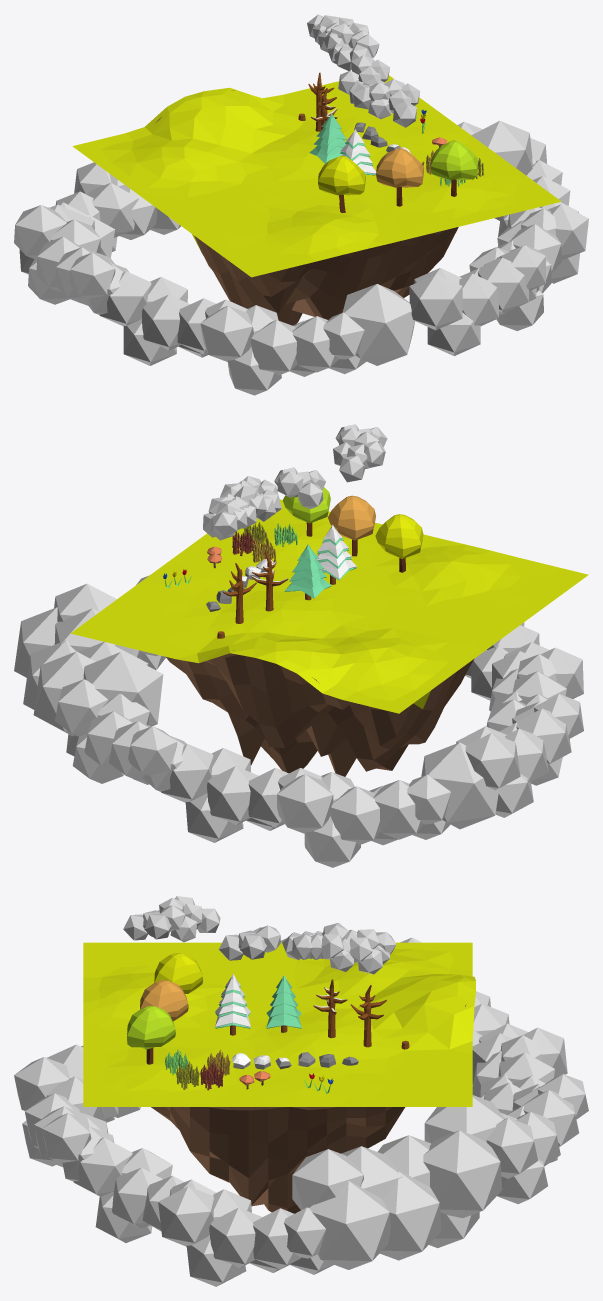
The model's file is low_poly_nature_pack by KASADIN on Turbosquid.fbx.
3 renders of one model, top to bottom at view 1: azimuth 30°, elevation 25°; view 2: azimuth 150°, elevation 25°; view 3: azimuth 270°, elevation 25°, orthographic. The views are drawn at different scales.
Parts seen in each view (by area): view 1: Landscape, Icosphere.039, cloud 3, cloud 1, normal tree dry, normal tree green, normal yellow ish, cloud 2, cone tree without snow, cone tree with snow; view 2: Landscape, Icosphere.039, cloud 3, cloud 1, normal yellow ish, normal tree dry, cloud 2, cone tree without snow, cone tree with snow, normal tree green, dead tree with snow, dead tree withotu snow; view 3: Landscape, Icosphere.039, cloud 3, cloud 1, normal tree green, cloud 2, normal yellow ish, cone tree with snow, normal tree dry, cone tree without snow, dead tree withotu snow, dead tree with snow.
Part boxes in pixels (box(x1,y1,x2,y2)): Landscape: box(72, 75, 561, 325); Icosphere.039: box(14, 120, 588, 395); cloud 3: box(307, 14, 379, 70); cloud 1: box(349, 79, 419, 127); normal tree dry: box(376, 148, 423, 206); normal tree green: box(430, 140, 478, 196); normal yellow ish: box(318, 156, 365, 212); cloud 2: box(338, 55, 389, 94); cone tree without snow: box(309, 113, 346, 163); cone tree with snow: box(340, 129, 376, 175); Landscape: box(70, 499, 588, 776); Icosphere.039: box(14, 575, 583, 867); cloud 3: box(203, 476, 281, 540); cloud 1: box(333, 424, 387, 482); normal yellow ish: box(375, 514, 423, 572); normal tree dry: box(328, 495, 375, 556); cloud 2: box(274, 467, 325, 508); cone tree without snow: box(284, 544, 331, 600); cone tree with snow: box(316, 524, 356, 584); normal tree green: box(282, 487, 330, 536); dead tree with snow: box(251, 552, 288, 611); dead tree withotu snow: box(223, 563, 256, 623); Landscape: box(83, 942, 475, 1213); Icosphere.039: box(14, 937, 588, 1286); cloud 3: box(282, 923, 396, 974); cloud 1: box(123, 896, 220, 942); normal tree green: box(127, 1006, 175, 1064); cloud 2: box(219, 925, 280, 960); normal yellow ish: box(154, 953, 203, 993); cone tree with snow: box(215, 974, 250, 1035); normal tree dry: box(140, 980, 188, 1021); cone tree without snow: box(266, 975, 301, 1032); dead tree withotu snow: box(350, 985, 386, 1047); dead tree with snow: box(313, 979, 347, 1038).
Size of the model in its own units: 4171 by 2282 by 3814.
